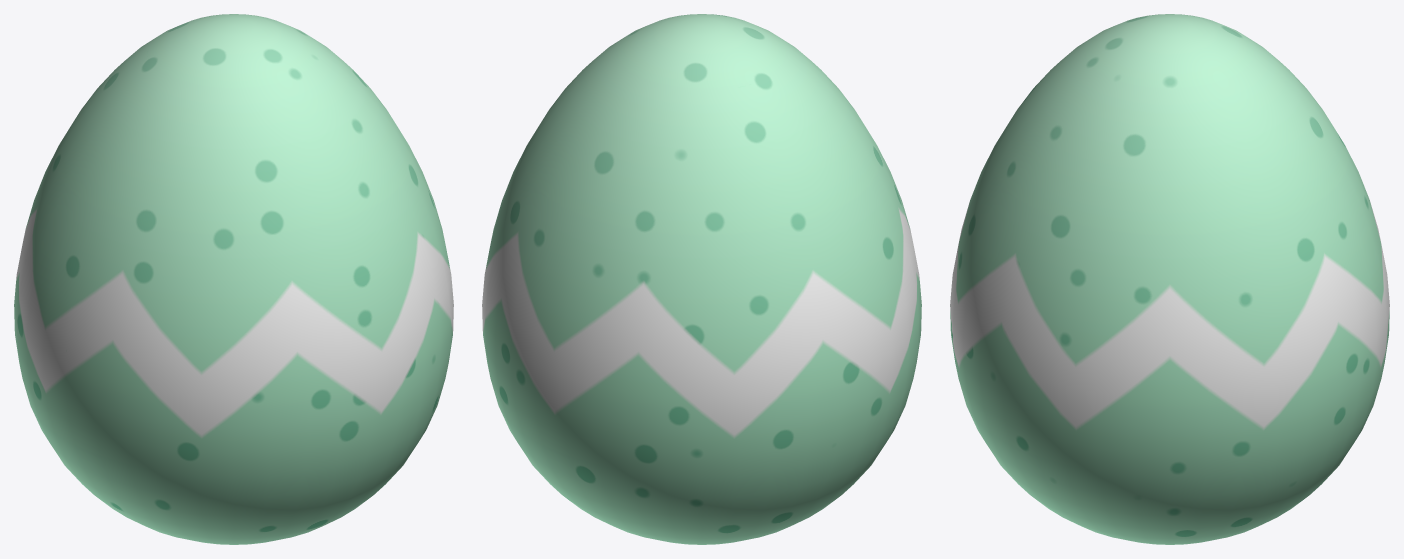
The model's file is Mint Egg.fbx.
3 renders of one model, left to right at view 1: azimuth 30°, elevation 25°; view 2: azimuth 150°, elevation 25°; view 3: azimuth 270°, elevation 25°, orthographic.
Parts seen in each view (by area): view 1: Mint Egg; view 2: Mint Egg; view 3: Mint Egg.
Boxes of the visible parts, x1=… form: Mint Egg: x1=14, y1=14, x2=453, y2=544; Mint Egg: x1=482, y1=14, x2=921, y2=544; Mint Egg: x1=950, y1=14, x2=1389, y2=544.
Size of the model in its own units: 4 by 5 by 4.
1 material, 1 textured.
